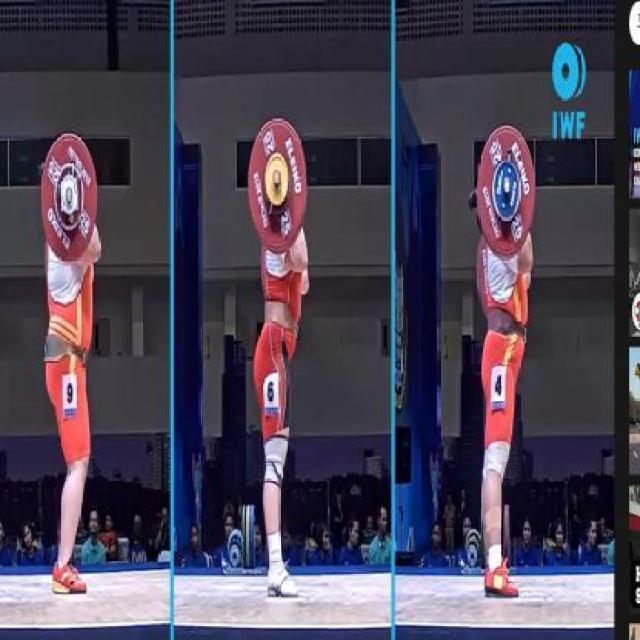barbell: (242, 117, 313, 256), (469, 123, 540, 261), (37, 132, 99, 265)
